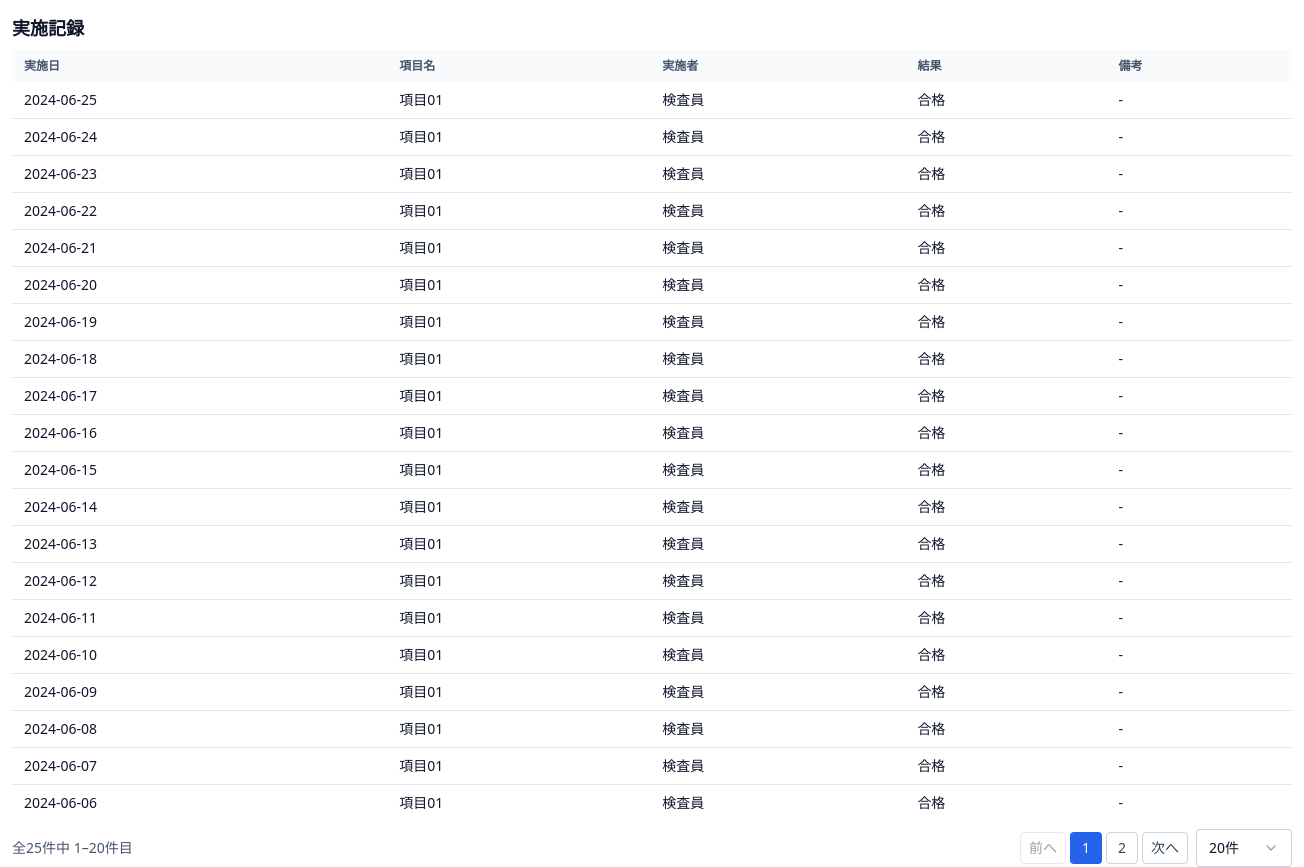
it: EquipmentDetail: 実施記録テーブルのページネーション › 25件のうち1ページ目は20件のみ表示し、「次へ」で残り5件に切り替わる
(page scrolled)
Expected: the text "2024-06-25" is shown, top-left (24, 90), bottom-right (97, 109)
Expected: the text "2024-06-05" is not shown
Click the 2nd button "次へ": {"x": 1165, "y": 848} top-left (1142, 832), bottom-right (1188, 864)
(page scrolled)
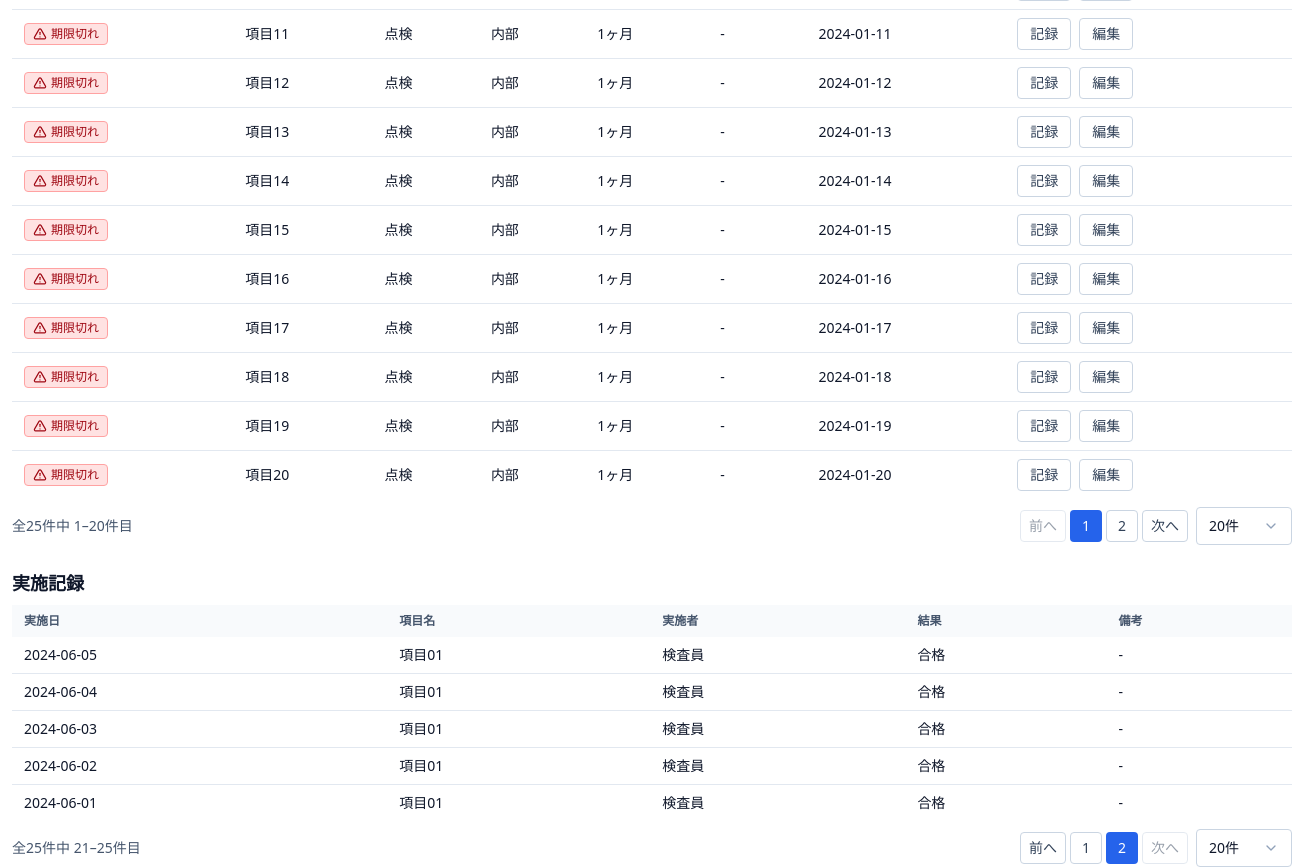
Expected: the text "2024-06-25" is gone
Expected: the text "2024-06-05" is shown, top-left (24, 645), bottom-right (97, 664)
